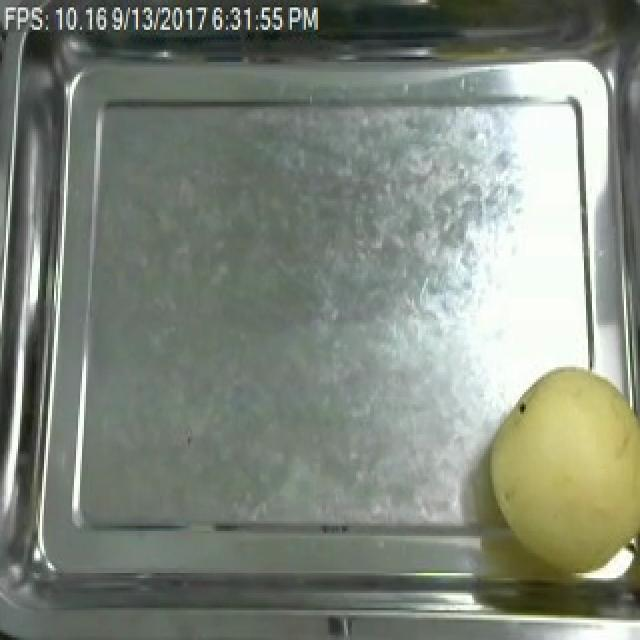Fruit: (478, 357, 640, 581)
